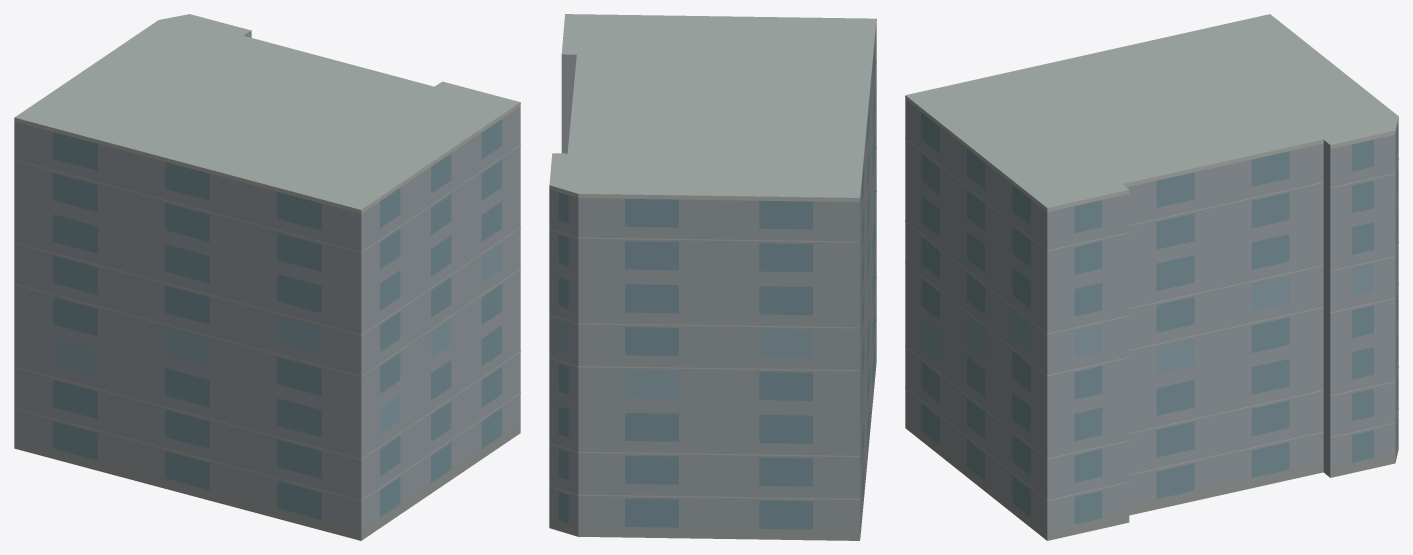
File: survey-upis-32704885.glb
3 renders of one model, left to right at view 1: azimuth 30°, elevation 25°; view 2: azimuth 150°, elevation 25°; view 3: azimuth 270°, elevation 25°, orthographic. The views are drawn at different scales.
Visible parts, largest first — view 1: survey-upis-32704885.tmp; view 2: survey-upis-32704885.tmp; view 3: survey-upis-32704885.tmp.
Part boxes in pixels (bbox=[...]): survey-upis-32704885.tmp: bbox=[14, 14, 520, 540]; survey-upis-32704885.tmp: bbox=[549, 14, 876, 540]; survey-upis-32704885.tmp: bbox=[905, 14, 1398, 540].
Size of the model in its own units: 24.78 by 19.8 by 26.63.
